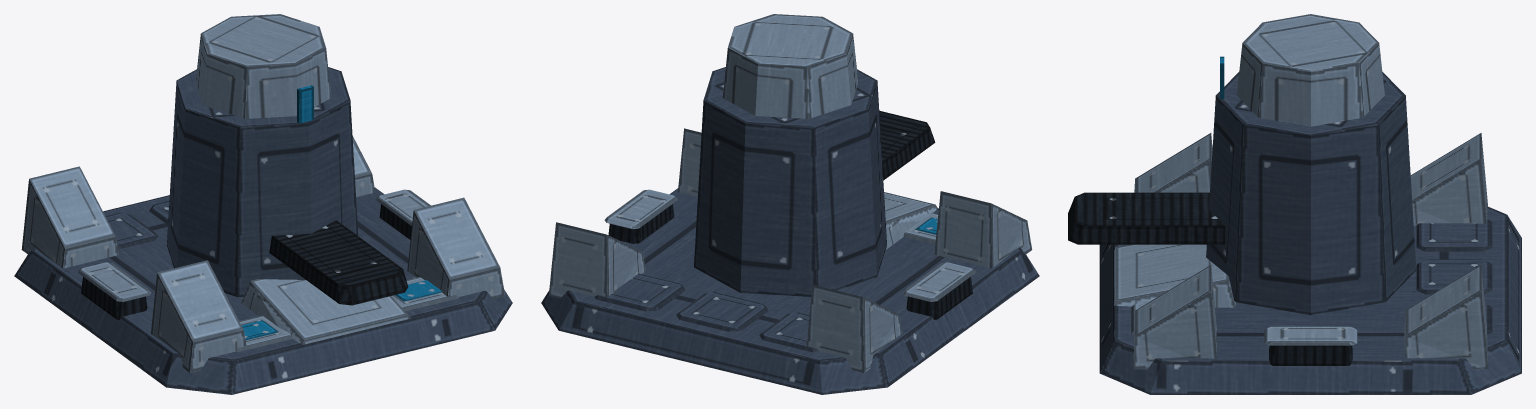
The model's file is building-mine.fbx.
3 renders of one model, left to right at view 1: azimuth 30°, elevation 25°; view 2: azimuth 150°, elevation 25°; view 3: azimuth 270°, elevation 25°, orthographic. The views are drawn at different scales.
Visible parts, largest first — view 1: building-mine; view 2: building-mine; view 3: building-mine.
Boxes of the visible parts, bbox=[...] form: building-mine: bbox=[14, 14, 512, 394]; building-mine: bbox=[541, 14, 1039, 394]; building-mine: bbox=[1068, 14, 1521, 394].
Bounding box in the file's own units: 2184 × 1500 × 2348.
Materials: 1 (1 with a texture image).
